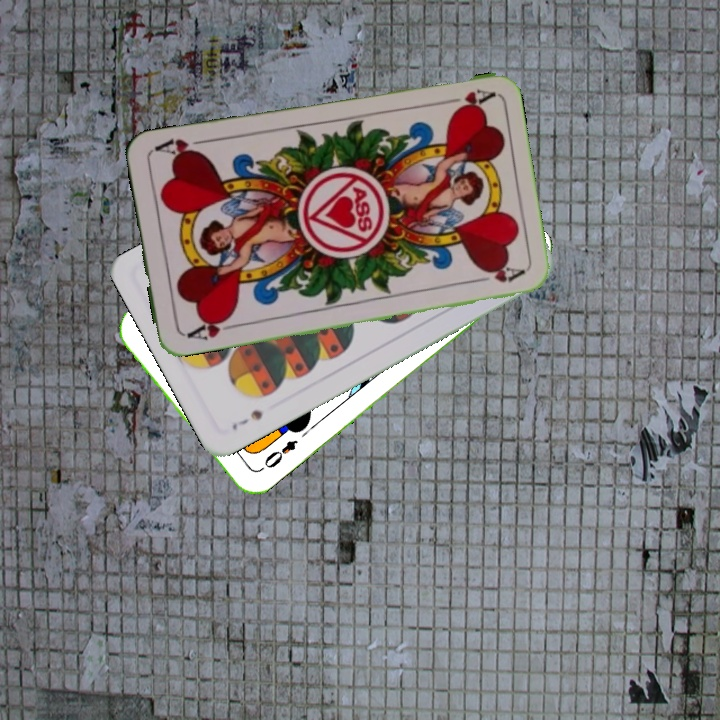EO: (255, 435, 301, 474)
HA: (181, 312, 240, 343), (436, 85, 495, 114)
S7: (227, 405, 266, 433)
